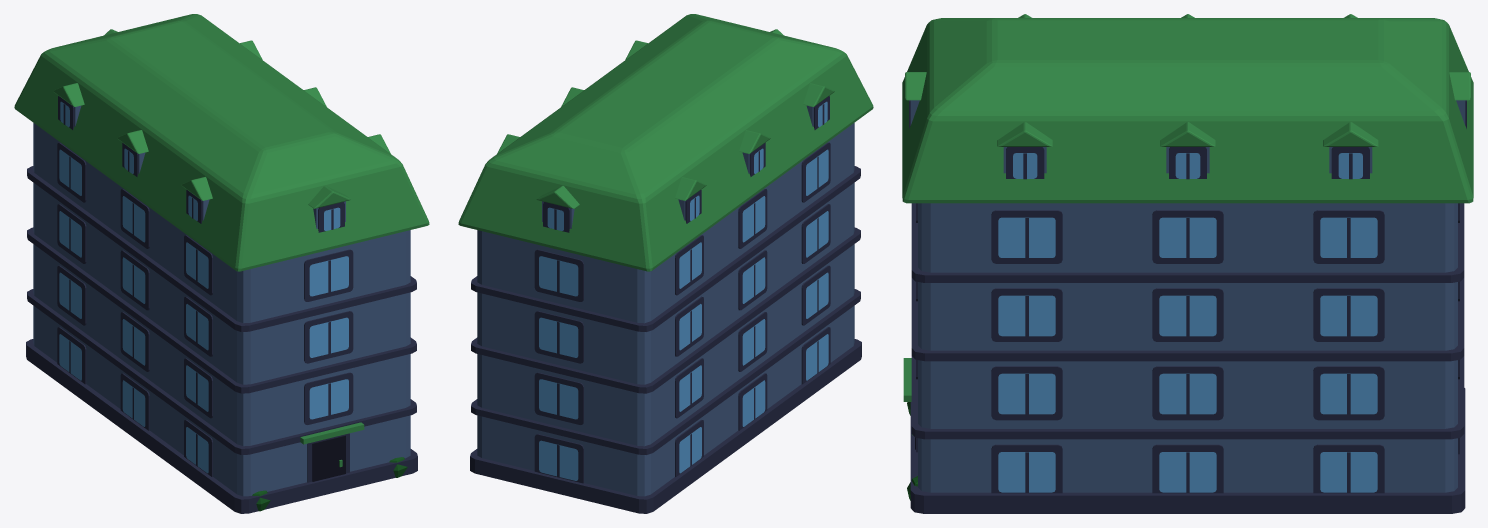
The model's file is house-1x2-4f-mansard-b.glb.
3 views of the same model, side by side, from view 1: azimuth 30°, elevation 25°; view 2: azimuth 150°, elevation 25°; view 3: azimuth 270°, elevation 25° (orthographic). The views are drawn at different scales.
Visible parts, largest first — view 1: house-1x2-4f-mansard-b; view 2: house-1x2-4f-mansard-b; view 3: house-1x2-4f-mansard-b.
Boxes of the visible parts, <box> form: house-1x2-4f-mansard-b: <box>14,14,429,513</box>; house-1x2-4f-mansard-b: <box>458,14,873,513</box>; house-1x2-4f-mansard-b: <box>902,14,1473,513</box>.
Size of the model in its own units: 0.9876 by 1.6 by 1.99.
Materials: 1 (1 with a texture image).
